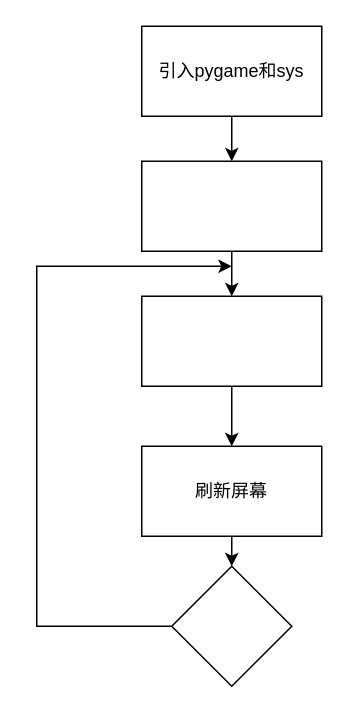
This 348x713 diagram has some shape labels left out. The shapes that lost their labels are listed below. From the top down, each one's centre as x and y in pixels, then its label:
[231,205]: 初始化init()及设置
[231,340]: 获取事件并逐类响应
